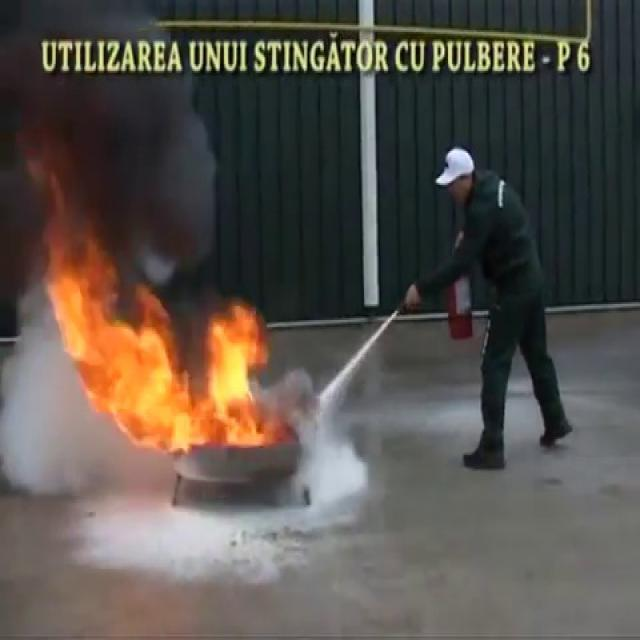Fire: (37, 227, 287, 457)
Smoke: (0, 0, 228, 295)
